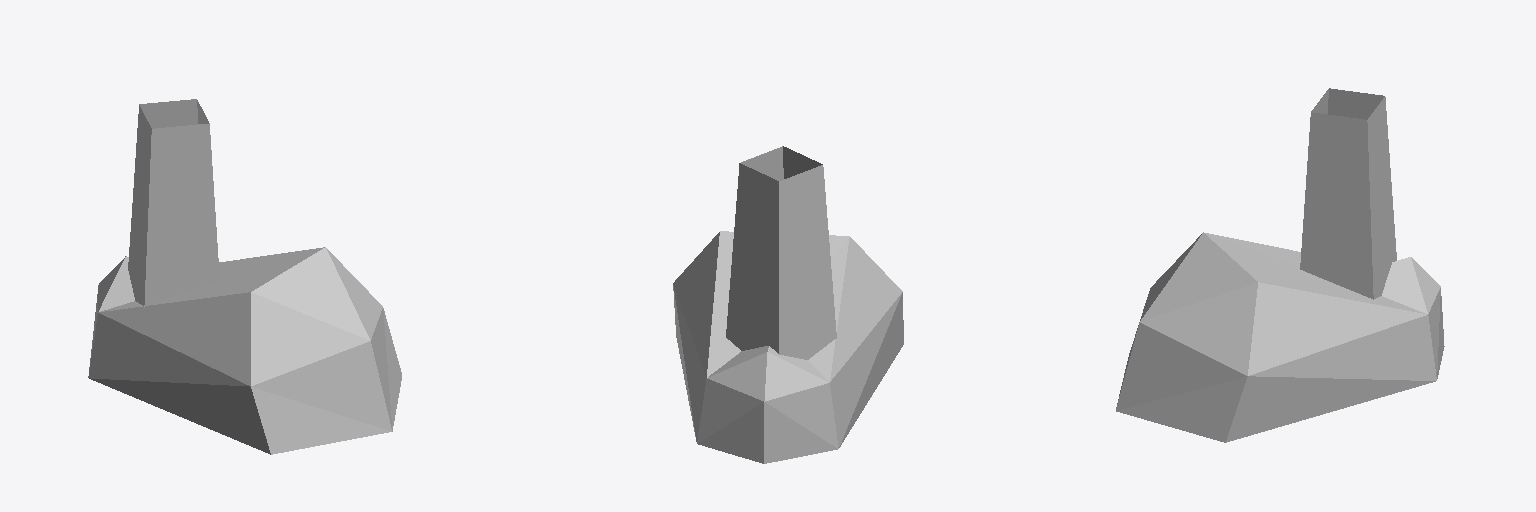
File: Left.obj
The picture shows the model from 3 angles: view 1: azimuth 30°, elevation 25°; view 2: azimuth 150°, elevation 25°; view 3: azimuth 270°, elevation 25°; orthographic projection.
Parts seen in each view (by area): view 1: polySurface1; view 2: polySurface1; view 3: polySurface1.
Boxes of the visible parts, x1=… form: polySurface1: x1=88, y1=99, x2=401, y2=454; polySurface1: x1=673, y1=146, x2=903, y2=463; polySurface1: x1=1116, y1=88, x2=1444, y2=442.
Bounding box in the file's own units: 0.184 × 0.1899 × 0.2199.